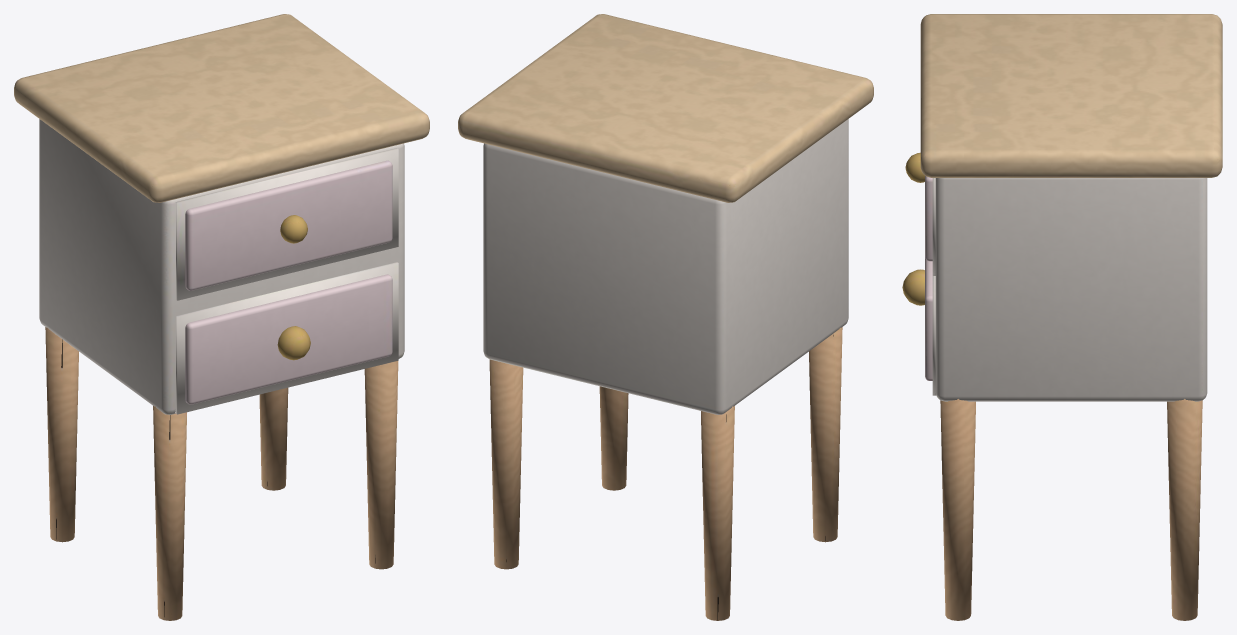
File: trumua-side-table-drawers.glb
3 views of the same model, side by side, from view 1: azimuth 30°, elevation 25°; view 2: azimuth 150°, elevation 25°; view 3: azimuth 270°, elevation 25° (orthographic). The views are drawn at different scales.
Visible parts, largest first — view 1: trumua-side-table-drawers; view 2: trumua-side-table-drawers; view 3: trumua-side-table-drawers.
Boxes of the visible parts, x1=… form: trumua-side-table-drawers: x1=14, y1=14, x2=429, y2=620; trumua-side-table-drawers: x1=458, y1=14, x2=873, y2=620; trumua-side-table-drawers: x1=902, y1=14, x2=1222, y2=620.
Size of the model in its own units: 0.45 by 0.7 by 0.424.
Materials: 1 (1 with a texture image).
